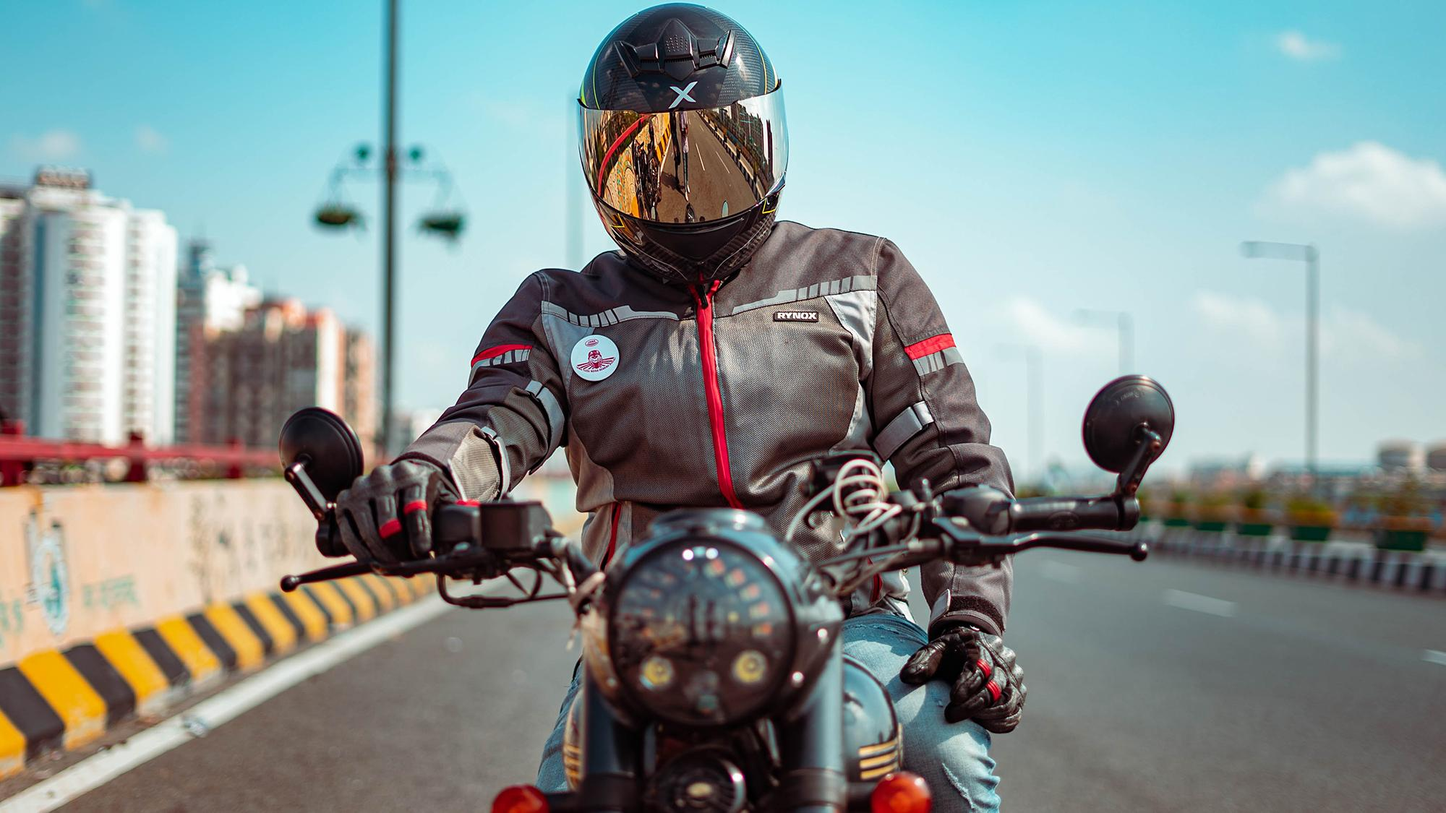helmet: (575, 1, 791, 287)
